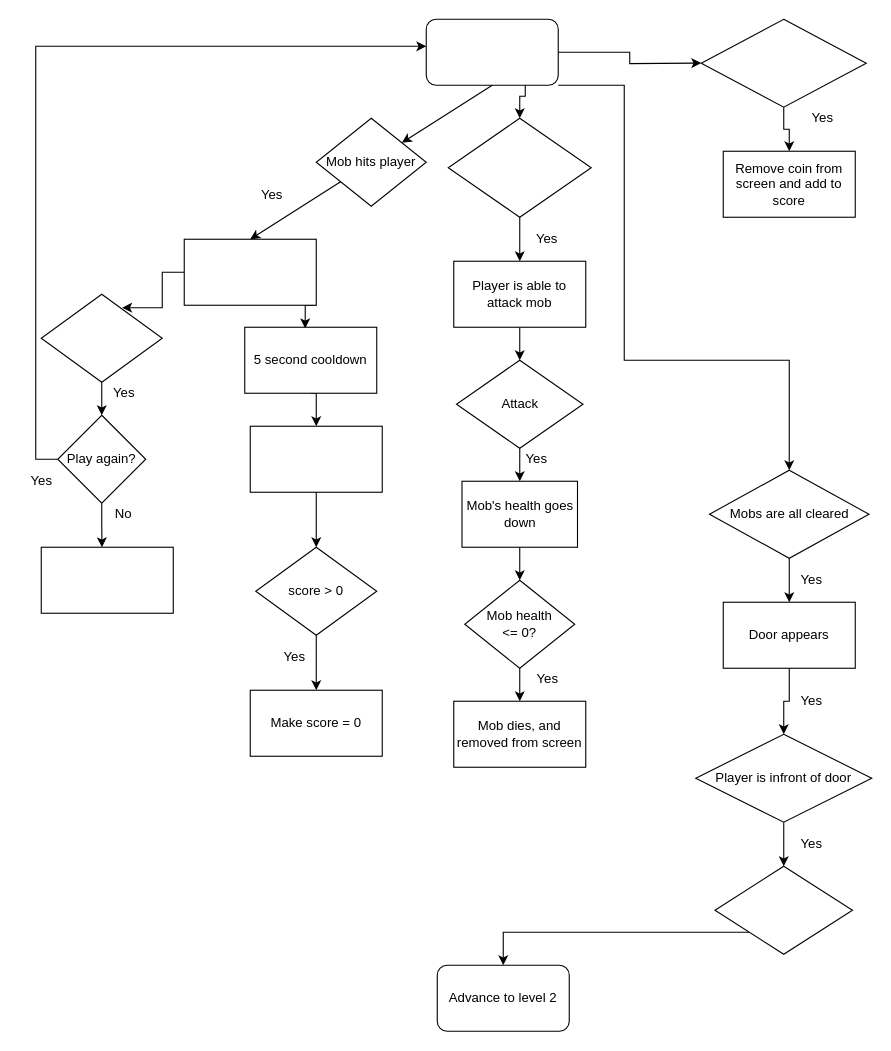
The diagram is 891 pixels wide and 1051 high, and some of its shapes have lost their labels. The box of each missing label's shape, as (x1, y1, x2, y2) in pixels:
Go to main menu: (40, 546, 173, 613)
Player collides with coin: (700, 18, 866, 107)
Player is in range of mob: (447, 117, 591, 217)
Player is out of hearts: (40, 293, 162, 382)
Player loses one heart: (183, 238, 316, 305)
Presses "A" to advance: (714, 865, 853, 954)
Remove 10 points from score: (249, 425, 382, 492)
Start level 1: (425, 18, 558, 85)
